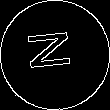N_E: (28, 33, 82, 77)
